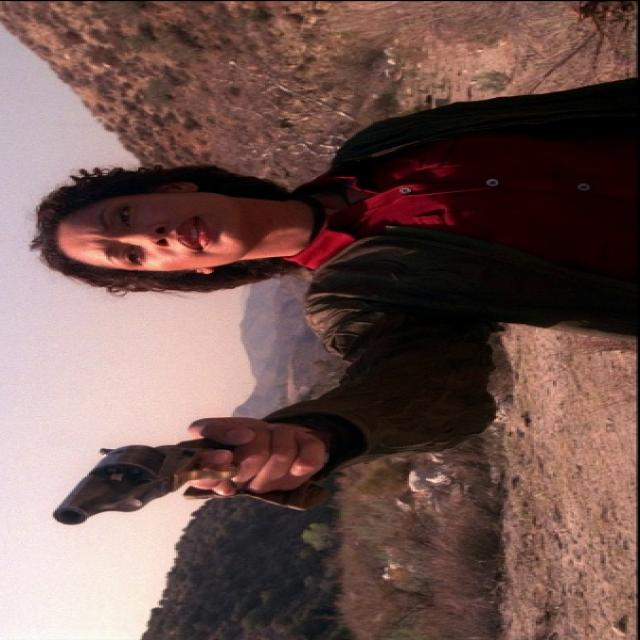weapons: (35, 422, 300, 532)
